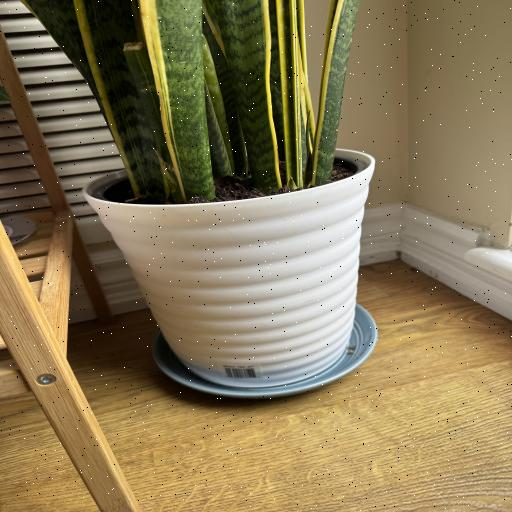Plant Pot: (83, 144, 375, 384)
